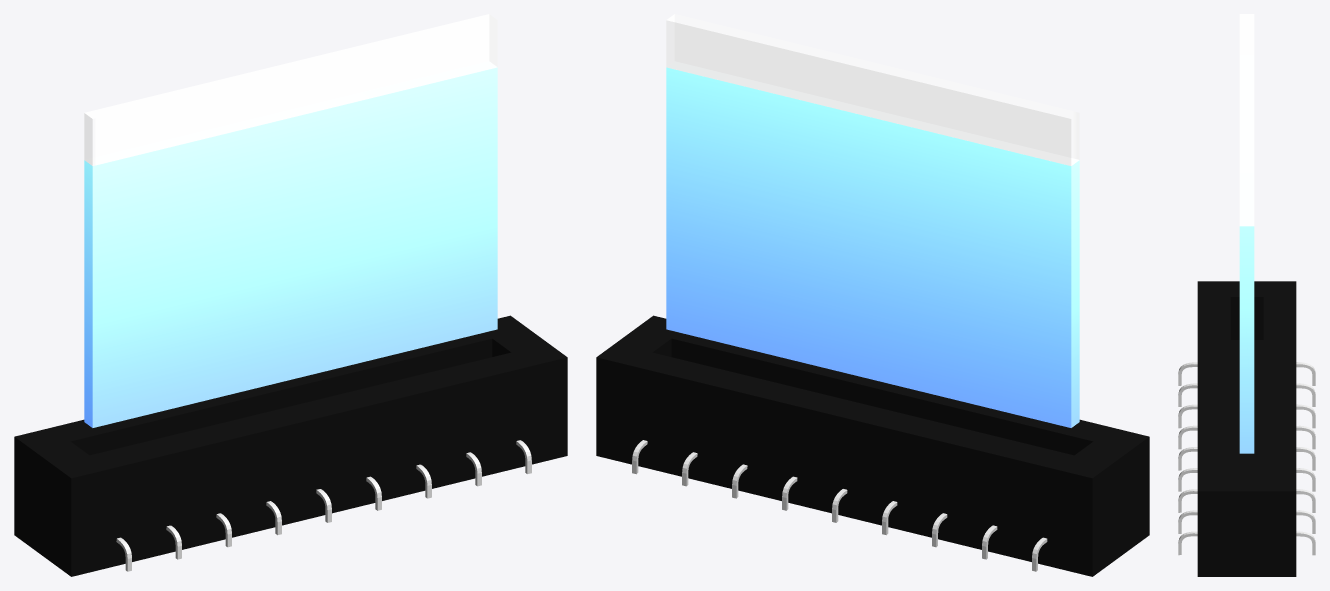
The model's file is esportsviewer.glb.
The picture shows the model from 3 angles, left to right: view 1: azimuth 30°, elevation 25°; view 2: azimuth 150°, elevation 25°; view 3: azimuth 270°, elevation 25°; orthographic projection. The views are drawn at different scales.
Parts seen in each view (by area): view 1: Cube.108, Base.002, Cube.107, Plane.183; view 2: Cube.108, Base.002, Cube.107, Plane.183; view 3: Base.002, Cube.108, Cube.107, Plane.183.
Boxes of the visible parts, x1,y1,x2,y2 form: Cube.108: (84, 67, 497, 427); Base.002: (14, 315, 567, 576); Cube.107: (84, 14, 497, 165); Plane.183: (116, 440, 531, 571); Cube.108: (666, 67, 1079, 427); Base.002: (596, 315, 1149, 576); Cube.107: (666, 14, 1079, 165); Plane.183: (632, 440, 1047, 571); Base.002: (1197, 281, 1296, 576); Cube.108: (1239, 226, 1254, 453); Cube.107: (1239, 14, 1254, 226); Plane.183: (1178, 362, 1315, 555).
Bounding box in the file's own units: 24.5 × 20.24 × 6.77.
